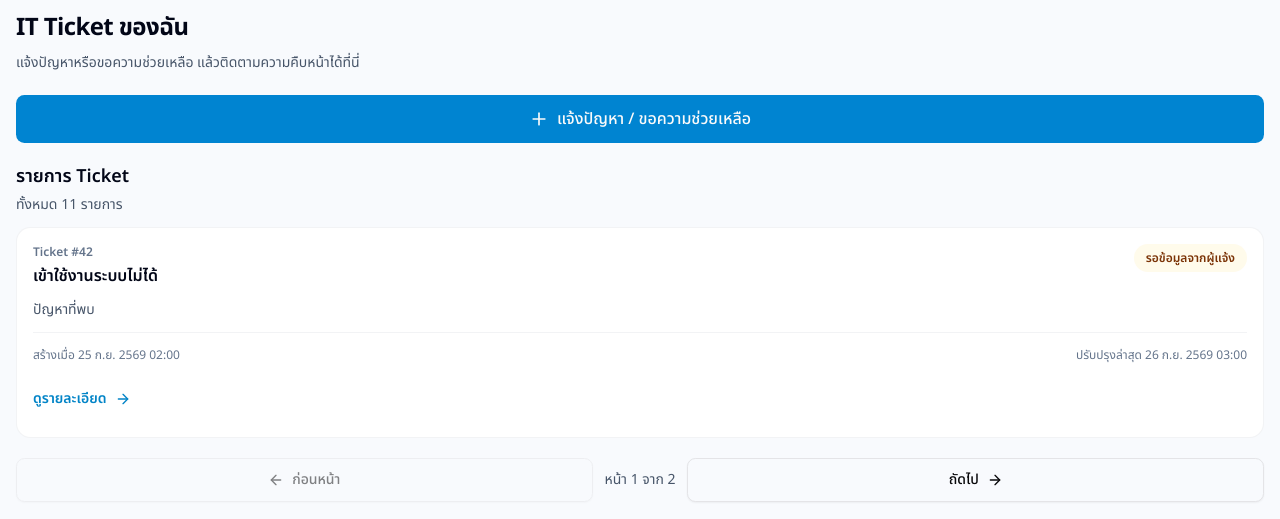
LiffITApp requester experience › pages through the existing requester list pagination
Check: the heading "เข้าใช้งานระบบไม่ได้" is shown, box [33,264,158,288]
Click the button "ถัดไป". click: x=976, y=480
box: [688,458,1264,502]
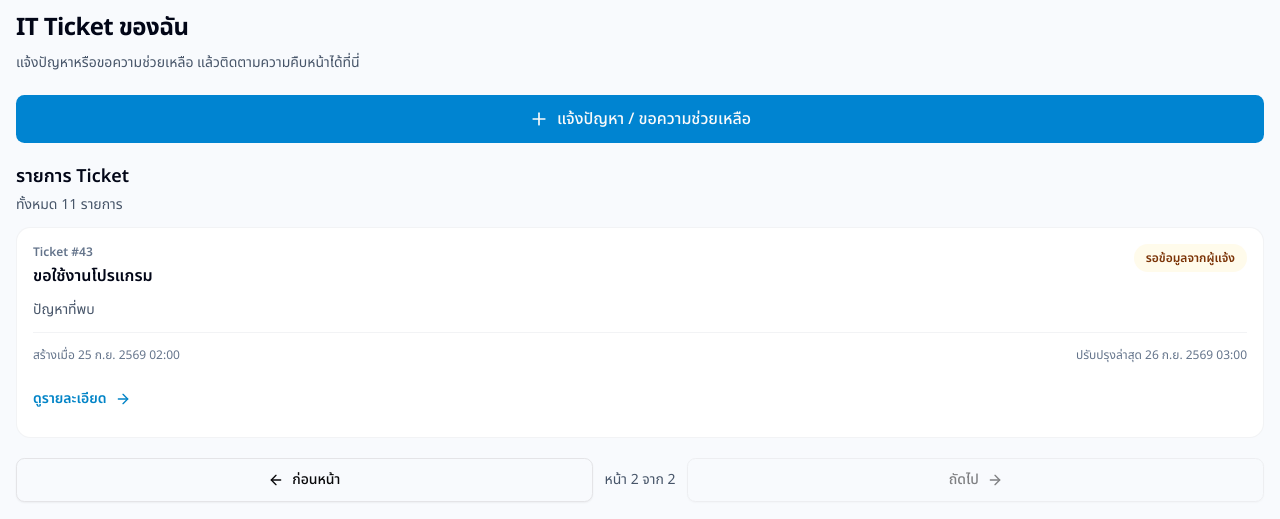
Check: the heading "ขอใช้งานโปรแกรม" is shown, box [33,264,153,288]
Check: the text "หน้า 2 จาก 2" is shown, box [604,470,676,490]
